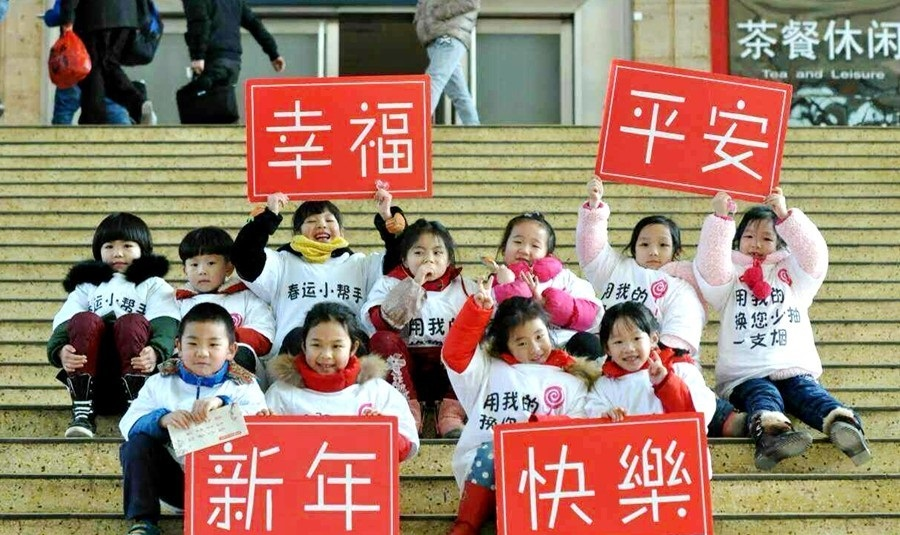face: (178, 323, 232, 375), (301, 325, 352, 375), (604, 323, 653, 368), (506, 319, 553, 361), (502, 225, 549, 266), (735, 220, 780, 262), (631, 226, 674, 269), (186, 254, 229, 291), (98, 236, 141, 271), (403, 241, 447, 275), (300, 212, 339, 243)
